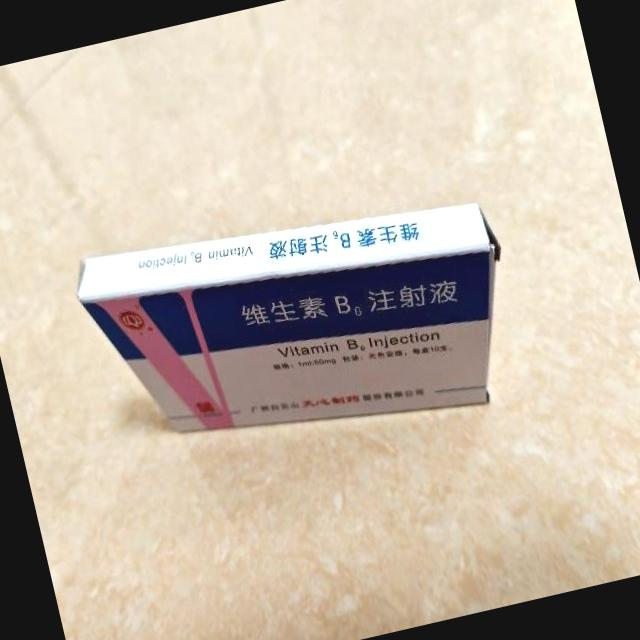box: (68, 167, 534, 488)
